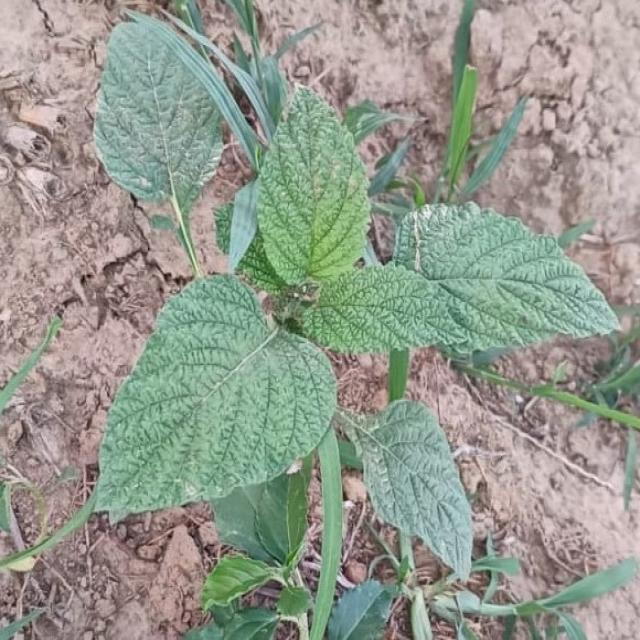weed: (94, 87, 617, 640), (95, 19, 222, 233)
